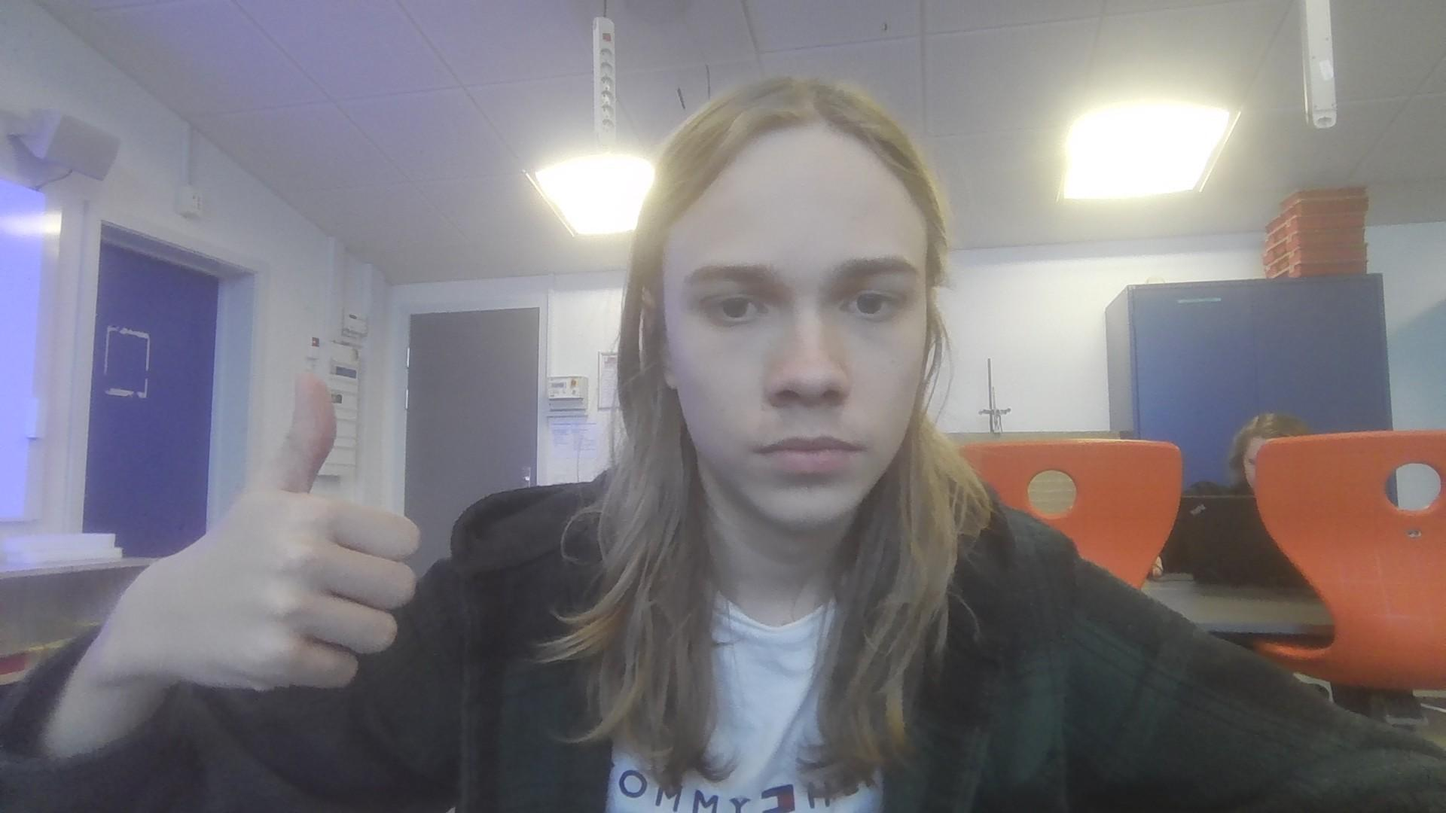thumbs up: (201, 381, 433, 694)
